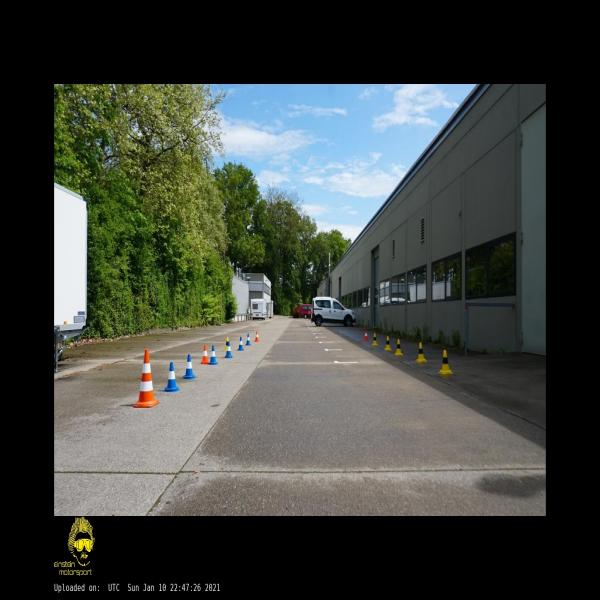blue_cone: (163, 362, 180, 392), (183, 354, 196, 378), (208, 346, 218, 364), (225, 341, 233, 358), (237, 336, 244, 351), (245, 334, 251, 346)
large_orange_cone: (133, 350, 159, 407)
orange_cone: (200, 345, 208, 364), (363, 330, 368, 341), (254, 332, 259, 341)
yellow_cone: (438, 350, 453, 374), (416, 342, 426, 363), (394, 340, 403, 355), (385, 336, 391, 350), (372, 334, 378, 346), (224, 337, 229, 351)
